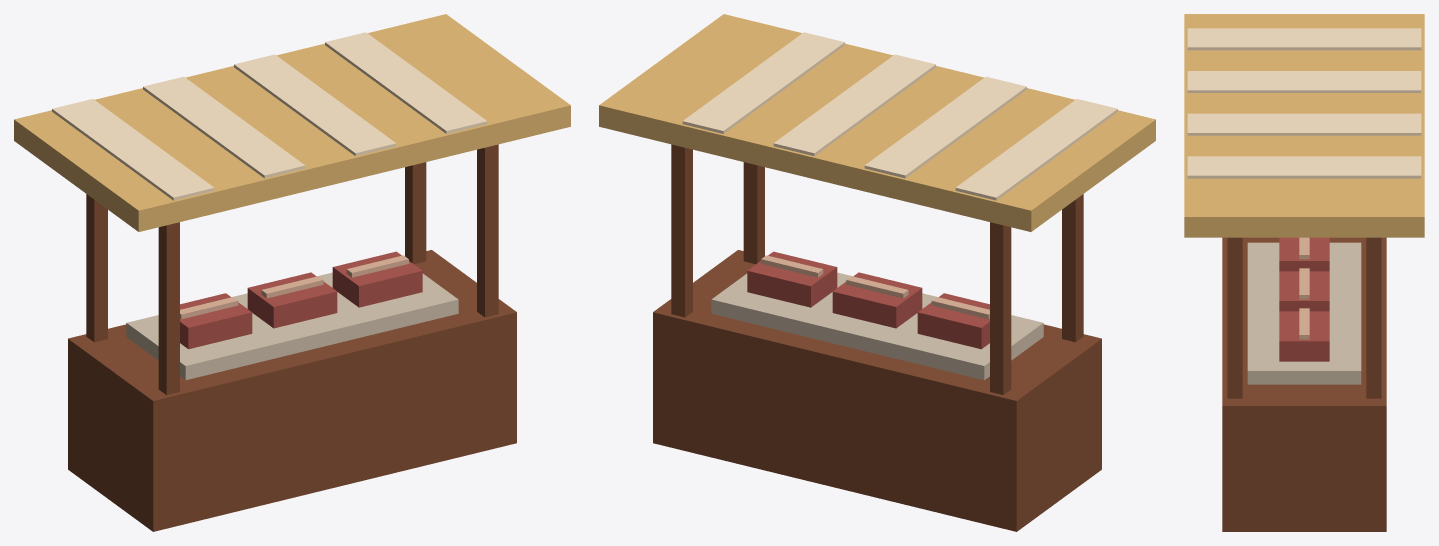
The model's file is meat_stall.glb.
3 renders of one model, left to right at view 1: azimuth 30°, elevation 25°; view 2: azimuth 150°, elevation 25°; view 3: azimuth 270°, elevation 25°, orthographic. The views are drawn at different scales.
Visible parts, largest first — view 1: _MeshInstance3D_299, _MeshInstance3D_306, _MeshInstance3D_311, _MeshInstance3D_308, _MeshInstance3D_309, _MeshInstance3D_307, _MeshInstance3D_310, _MeshInstance3D_305, _MeshInstance3D_303, _MeshInstance3D_314, _MeshInstance3D_316, _MeshInstance3D_302 (+2 smaller); view 2: _MeshInstance3D_299, _MeshInstance3D_306, _MeshInstance3D_311, _MeshInstance3D_308, _MeshInstance3D_309, _MeshInstance3D_307, _MeshInstance3D_310, _MeshInstance3D_304, _MeshInstance3D_302, _MeshInstance3D_314, _MeshInstance3D_316, _MeshInstance3D_303 (+2 smaller); view 3: _MeshInstance3D_306, _MeshInstance3D_299, _MeshInstance3D_311, _MeshInstance3D_310, _MeshInstance3D_307, _MeshInstance3D_309, _MeshInstance3D_308, _MeshInstance3D_304, _MeshInstance3D_305, _MeshInstance3D_316, _MeshInstance3D_314, _MeshInstance3D_312 (+2 smaller).
Part boxes in pixels (x1,y1,x2,y2): _MeshInstance3D_299: (68, 250, 516, 531); _MeshInstance3D_306: (14, 14, 570, 231); _MeshInstance3D_311: (126, 272, 458, 380); _MeshInstance3D_308: (143, 76, 305, 178); _MeshInstance3D_309: (234, 54, 396, 156); _MeshInstance3D_307: (52, 99, 214, 200); _MeshInstance3D_310: (325, 32, 487, 133); _MeshInstance3D_305: (477, 144, 498, 317); _MeshInstance3D_303: (158, 222, 179, 395); _MeshInstance3D_314: (247, 272, 337, 328); _MeshInstance3D_316: (332, 251, 422, 307); _MeshInstance3D_302: (86, 194, 107, 342); _MeshInstance3D_299: (653, 250, 1101, 531); _MeshInstance3D_306: (599, 14, 1155, 231); _MeshInstance3D_311: (711, 272, 1043, 380); _MeshInstance3D_308: (864, 76, 1026, 178); _MeshInstance3D_309: (773, 54, 935, 156); _MeshInstance3D_307: (955, 99, 1117, 200); _MeshInstance3D_310: (682, 32, 844, 133); _MeshInstance3D_304: (671, 144, 692, 317); _MeshInstance3D_302: (990, 222, 1011, 395); _MeshInstance3D_314: (832, 272, 922, 328); _MeshInstance3D_316: (747, 251, 837, 307); _MeshInstance3D_303: (1062, 194, 1083, 342); _MeshInstance3D_306: (1184, 14, 1424, 237); _MeshInstance3D_299: (1222, 237, 1386, 531); _MeshInstance3D_311: (1247, 242, 1361, 384); _MeshInstance3D_310: (1187, 156, 1421, 178); _MeshInstance3D_307: (1187, 28, 1421, 50); _MeshInstance3D_309: (1187, 113, 1421, 135); _MeshInstance3D_308: (1187, 71, 1421, 92); _MeshInstance3D_304: (1366, 237, 1381, 398); _MeshInstance3D_305: (1227, 237, 1242, 398); _MeshInstance3D_316: (1279, 311, 1329, 361); _MeshInstance3D_314: (1279, 271, 1329, 311); _MeshInstance3D_312: (1279, 237, 1329, 271).
Size of the model in its own units: 3.8 by 2.92 by 1.9.
